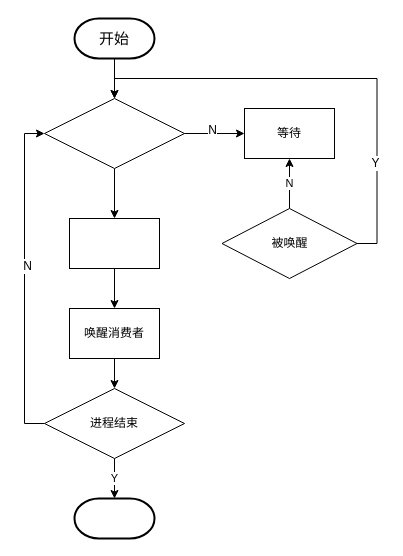
The diagram is 403 pixels wide and 556 high, and some of its shapes have lost their labels. The shapes that lost their labels are listed below. From the top down, each one's centre as x and y in pixels, then its label:
At point (114, 133): "剩余资源小于上限".
At point (114, 243): "生产".
At point (114, 518): "退出".
